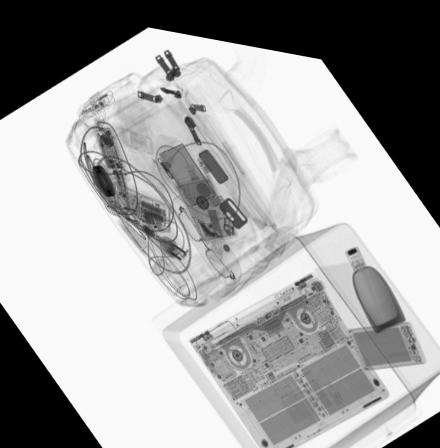Powerbank: (342, 304, 428, 356)
